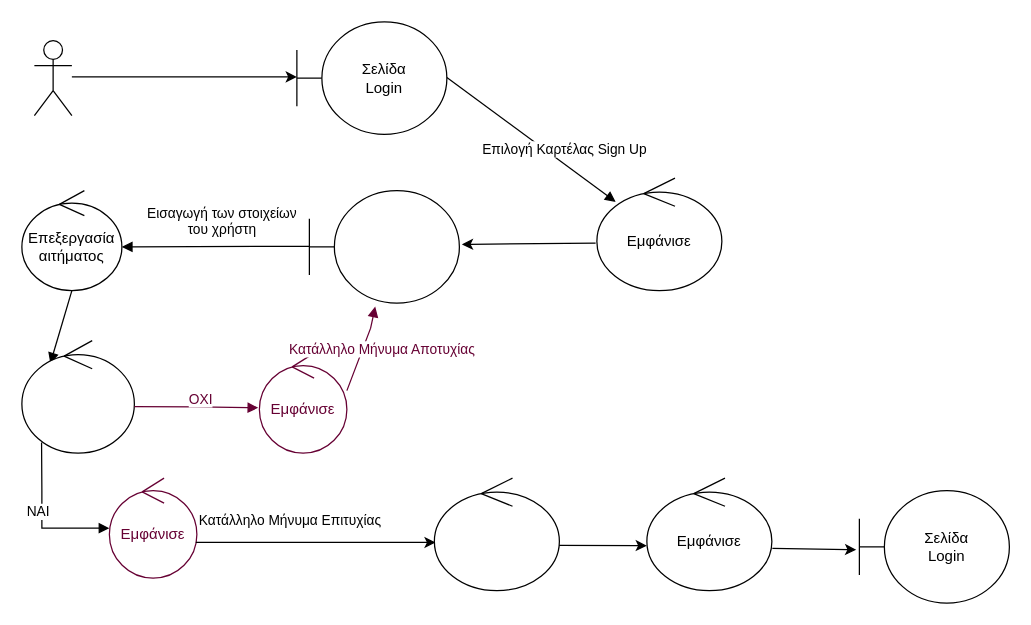
This 1031x625 diagram has some shape labels left out. Here are the shapes that lost their labels. From the top down, the centre of each, then its label:
the point at 52,77: Παίκτης
the point at 383,246: Σελίδα Sign Up
the point at 77,396: Τηρεί τις προυποθέσεις;
the point at 496,534: Αποθήκευση Λογαριασμού
